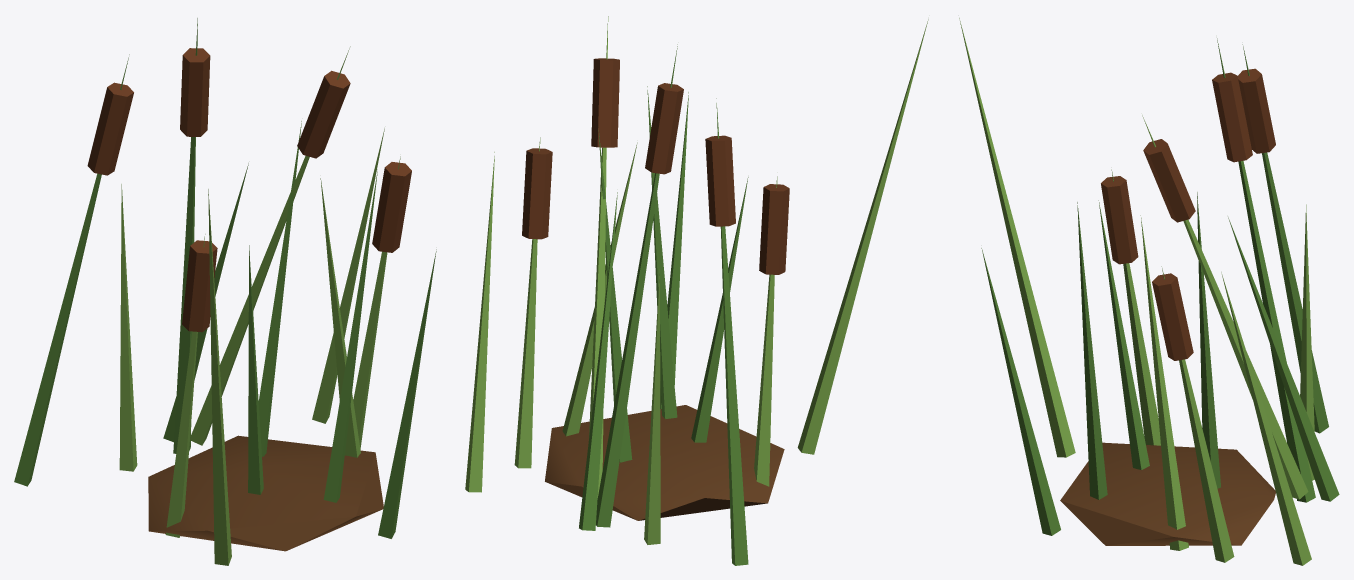
The model's file is reeds_c.glb.
The picture shows the model from 3 angles, left to right: view 1: azimuth 30°, elevation 25°; view 2: azimuth 150°, elevation 25°; view 3: azimuth 270°, elevation 25°; orthographic projection. The views are drawn at different scales.
Parts seen in each view (by area): view 1: reeds_c; view 2: reeds_c; view 3: reeds_c.
Part boxes in pixels (<box>): reeds_c: <box>14,18,436,565</box>; reeds_c: <box>465,16,928,565</box>; reeds_c: <box>959,18,1339,565</box>.
Bounding box in the file's own units: 0.799 × 1.16 × 0.8802.
